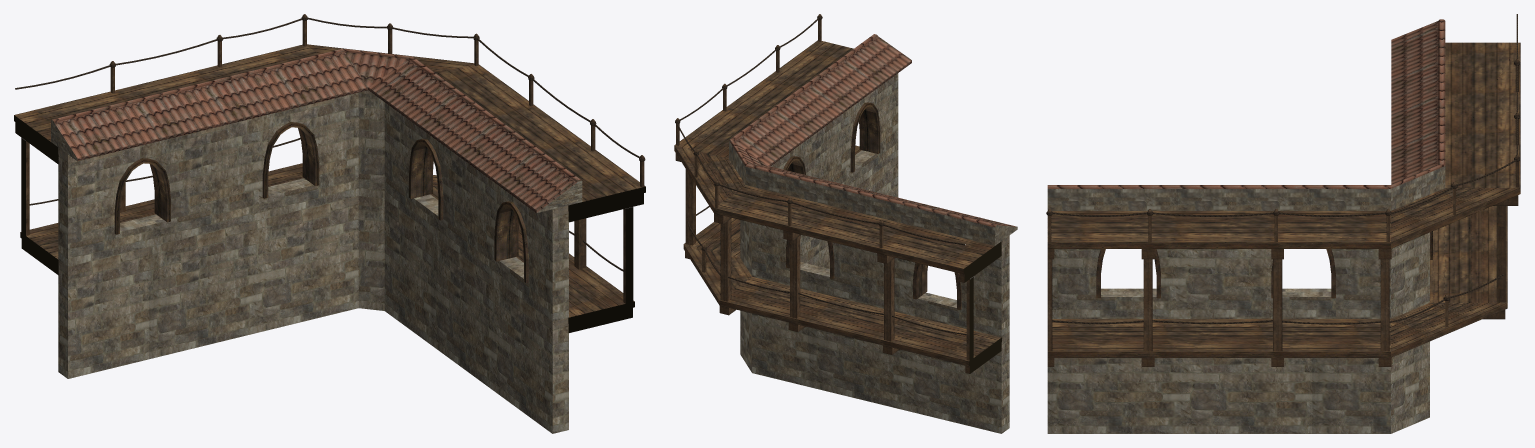
The model's file is FortWallRCornerR1.dae.
3 views of the same model, side by side, from view 1: azimuth 30°, elevation 25°; view 2: azimuth 150°, elevation 25°; view 3: azimuth 270°, elevation 25° (orthographic). The views are drawn at different scales.
Visible parts, largest first — view 1: forts_stone_copy16-0; view 2: forts_stone_copy16-0; view 3: forts_stone_copy16-0.
Part boxes in pixels (x1,y1,x2,y2): forts_stone_copy16-0: (14, 14, 645, 433); forts_stone_copy16-0: (674, 14, 1017, 433); forts_stone_copy16-0: (1046, 14, 1520, 433).
Bounding box in the file's own units: 14.63 × 8.92 × 14.65.
